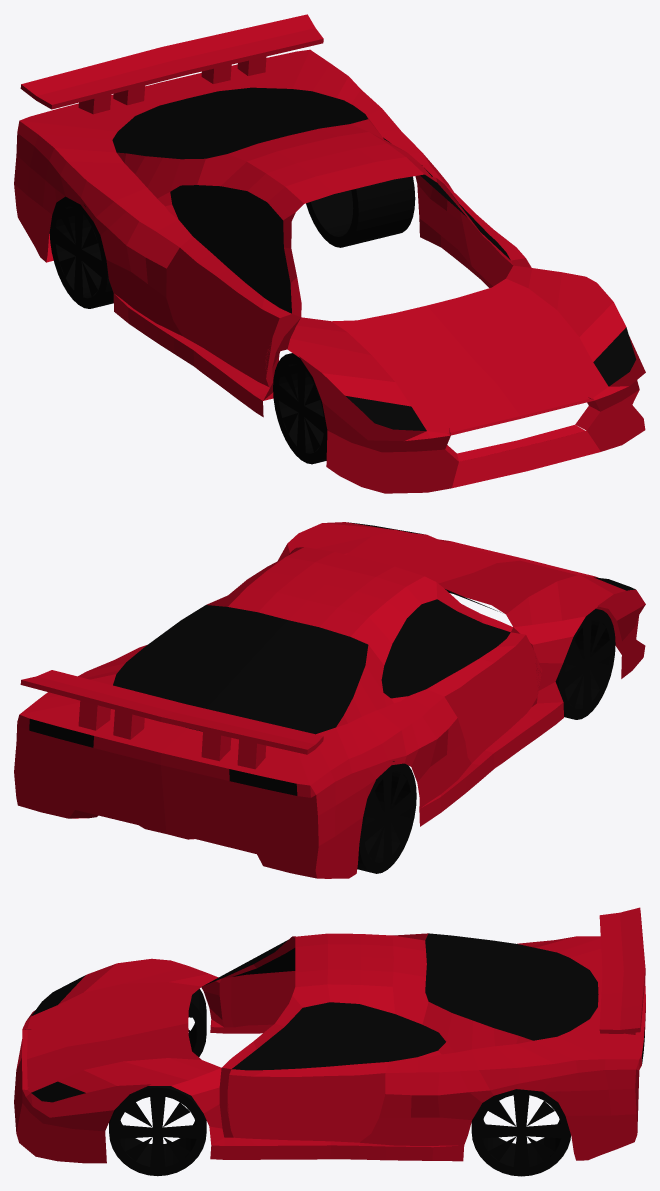
File: sample0.glb
The picture shows the model from 3 angles, top to bottom: view 1: azimuth 30°, elevation 25°; view 2: azimuth 150°, elevation 25°; view 3: azimuth 270°, elevation 25°; orthographic projection. The views are drawn at different scales.
Parts seen in each view (by area): view 1: Plane, Plane.001, Cylinder.002, Cylinder.003, Cylinder.004; view 2: Plane, Plane.001, Cylinder.003, Cylinder.004; view 3: Plane, Cylinder.001, Cylinder.002, Plane.001, Cylinder.004.
Part boxes in pixels (left/top/right/bottom): Plane: left=14, top=49, right=645, bottom=493; Plane.001: left=20, top=14, right=323, bottom=114; Cylinder.002: left=306, top=176, right=415, bottom=247; Cylinder.003: left=49, top=196, right=113, bottom=308; Cylinder.004: left=273, top=353, right=327, bottom=464; Plane: left=14, top=522, right=645, bottom=878; Plane.001: left=20, top=670, right=323, bottom=769; Cylinder.003: left=357, top=761, right=416, bottom=873; Cylinder.004: left=555, top=608, right=615, bottom=719; Plane: left=14, top=933, right=645, bottom=1163; Cylinder.001: left=109, top=1086, right=206, bottom=1176; Cylinder.002: left=471, top=1089, right=570, bottom=1176; Plane.001: left=599, top=907, right=645, bottom=1034; Cylinder.004: left=188, top=988, right=206, bottom=1056.
Bounding box in the file's own units: 1.45 × 0.8175 × 2.96.
